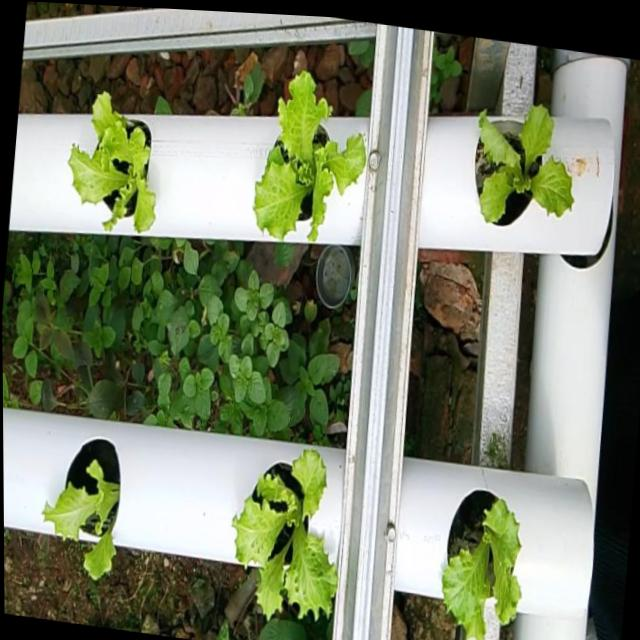Baby: (235, 450, 340, 633), (256, 73, 368, 244), (477, 107, 576, 230), (72, 92, 158, 233), (444, 492, 522, 640), (46, 437, 123, 578)
